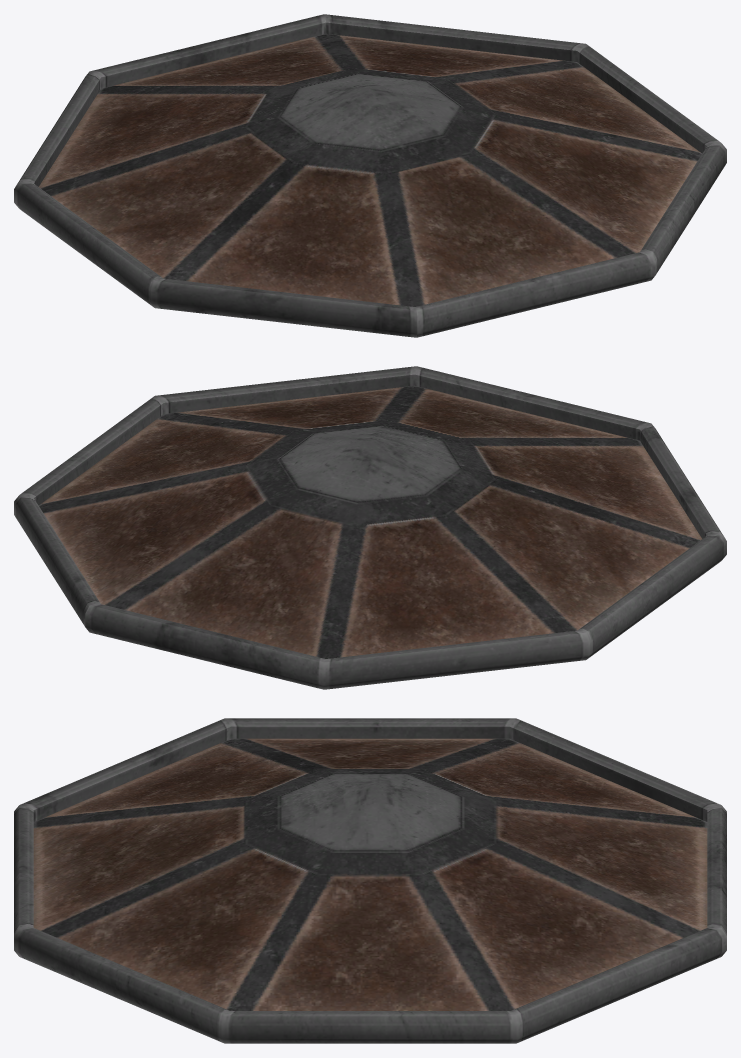
Rendered from sm_dwarf_erebor_shield_leather_b.fbx.
The picture shows the model from 3 angles, top to bottom: view 1: azimuth 30°, elevation 25°; view 2: azimuth 150°, elevation 25°; view 3: azimuth 270°, elevation 25°; orthographic projection. The views are drawn at different scales.
Parts seen in each view (by area): view 1: sm_dwarf_erebor_shield_leather_b; view 2: sm_dwarf_erebor_shield_leather_b; view 3: sm_dwarf_erebor_shield_leather_b.
Part boxes in pixels (<box>): sm_dwarf_erebor_shield_leather_b: <box>14,14,726,337</box>; sm_dwarf_erebor_shield_leather_b: <box>14,366,726,689</box>; sm_dwarf_erebor_shield_leather_b: <box>14,718,726,1043</box>.
Size of the model in its own units: 0.6475 by 0.6475 by 0.1447.
Materials: 1 (1 with a texture image).
